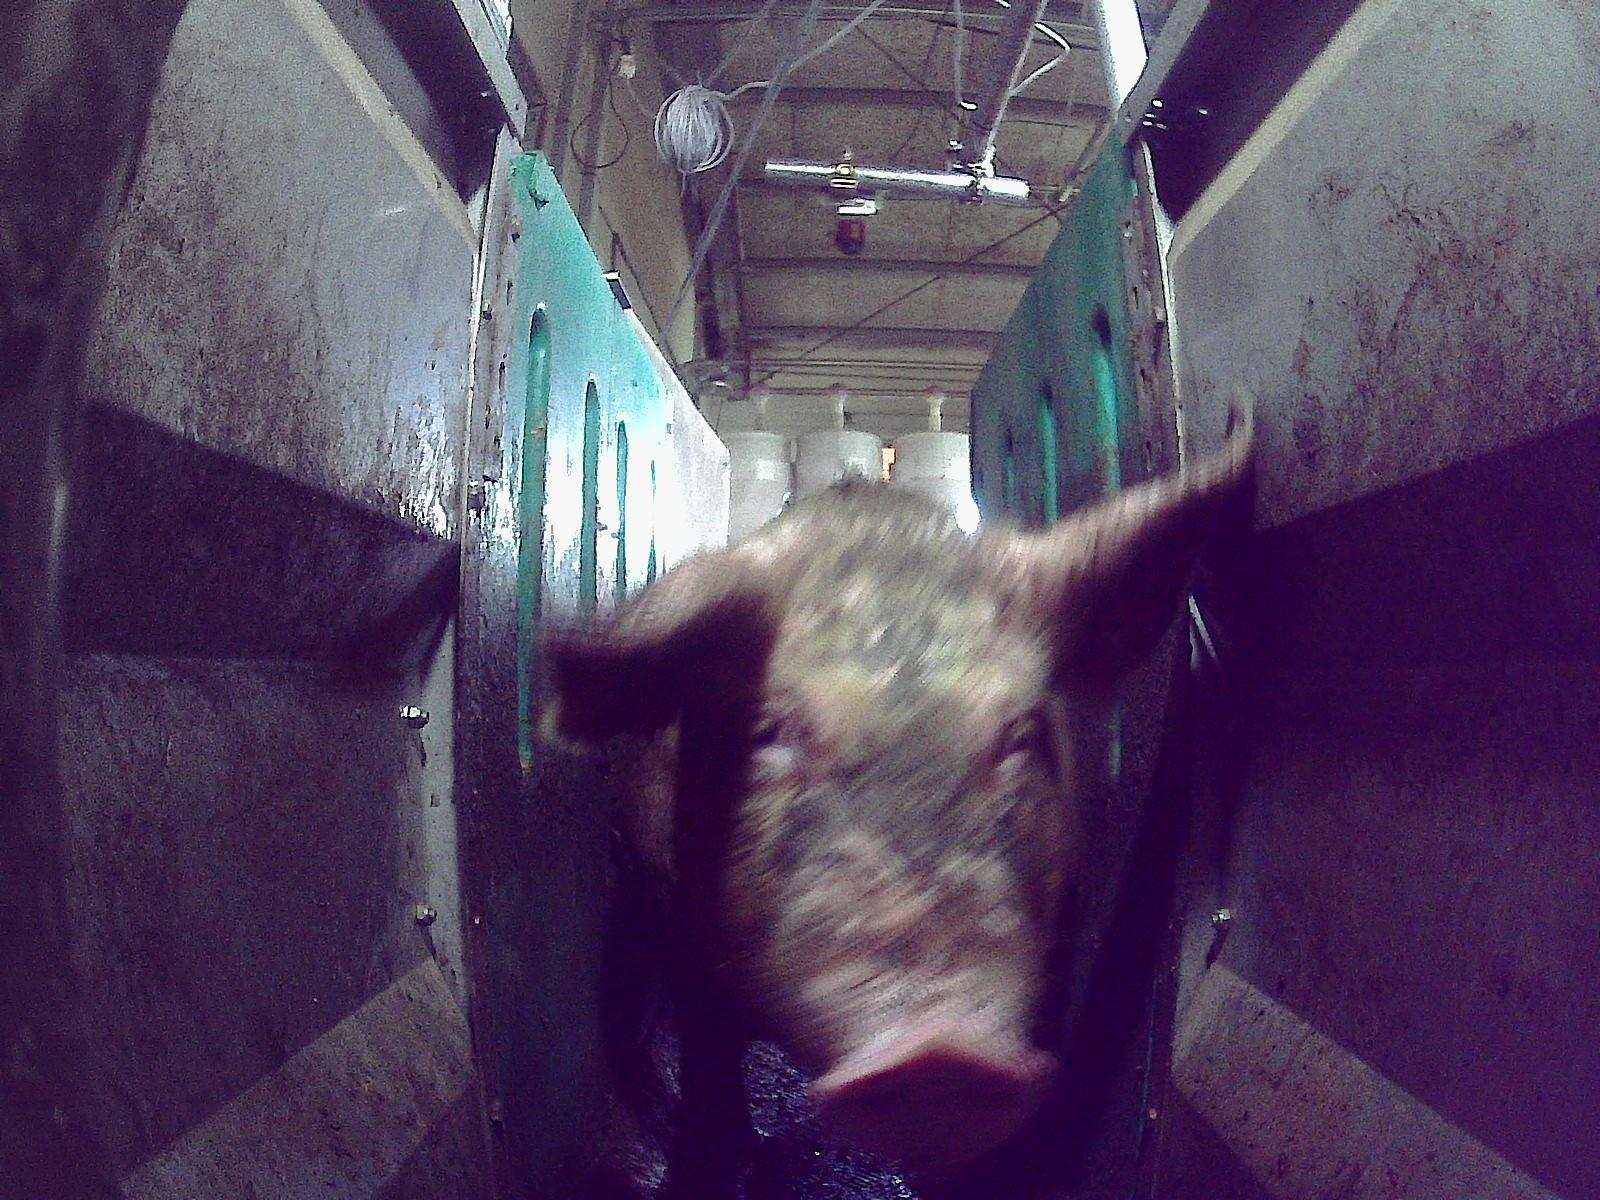Face: (663, 475, 1085, 1185)
